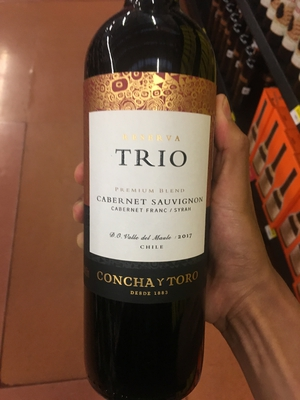trio cabernet sauvignon: (78, 16, 235, 396)
